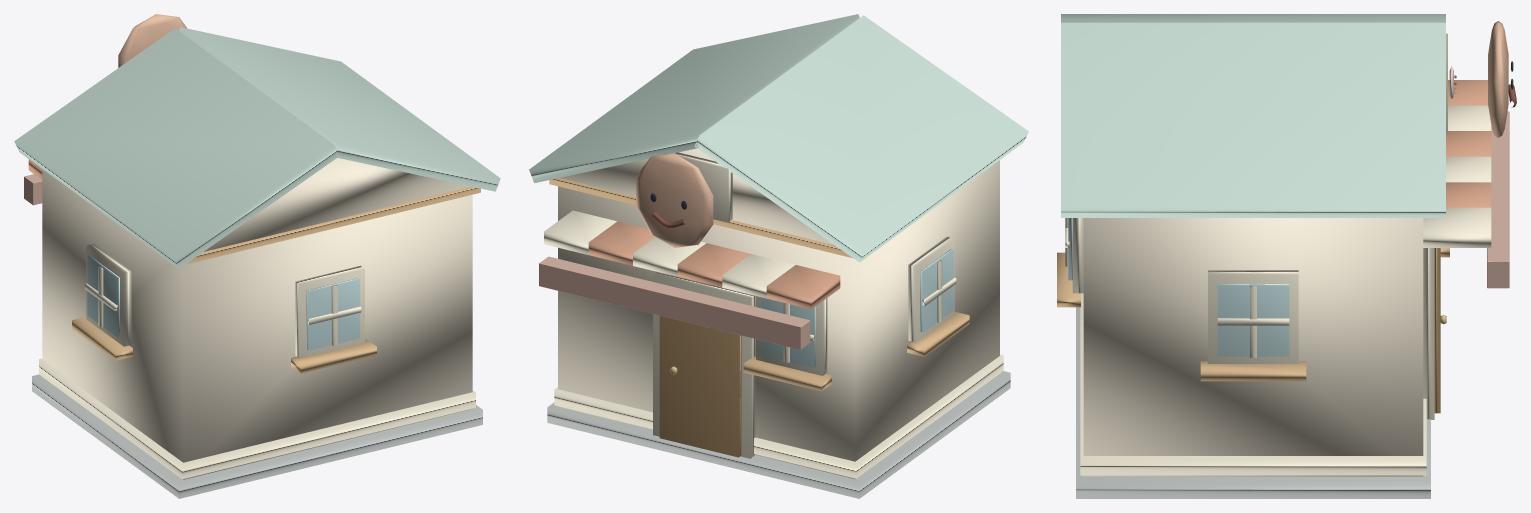
The picture shows the model from 3 angles, left to right: view 1: azimuth 30°, elevation 25°; view 2: azimuth 150°, elevation 25°; view 3: azimuth 270°, elevation 25°; orthographic projection. The views are drawn at different scales.
Bounding box in the file's own units: 3.62 × 3.4 × 3.65.
